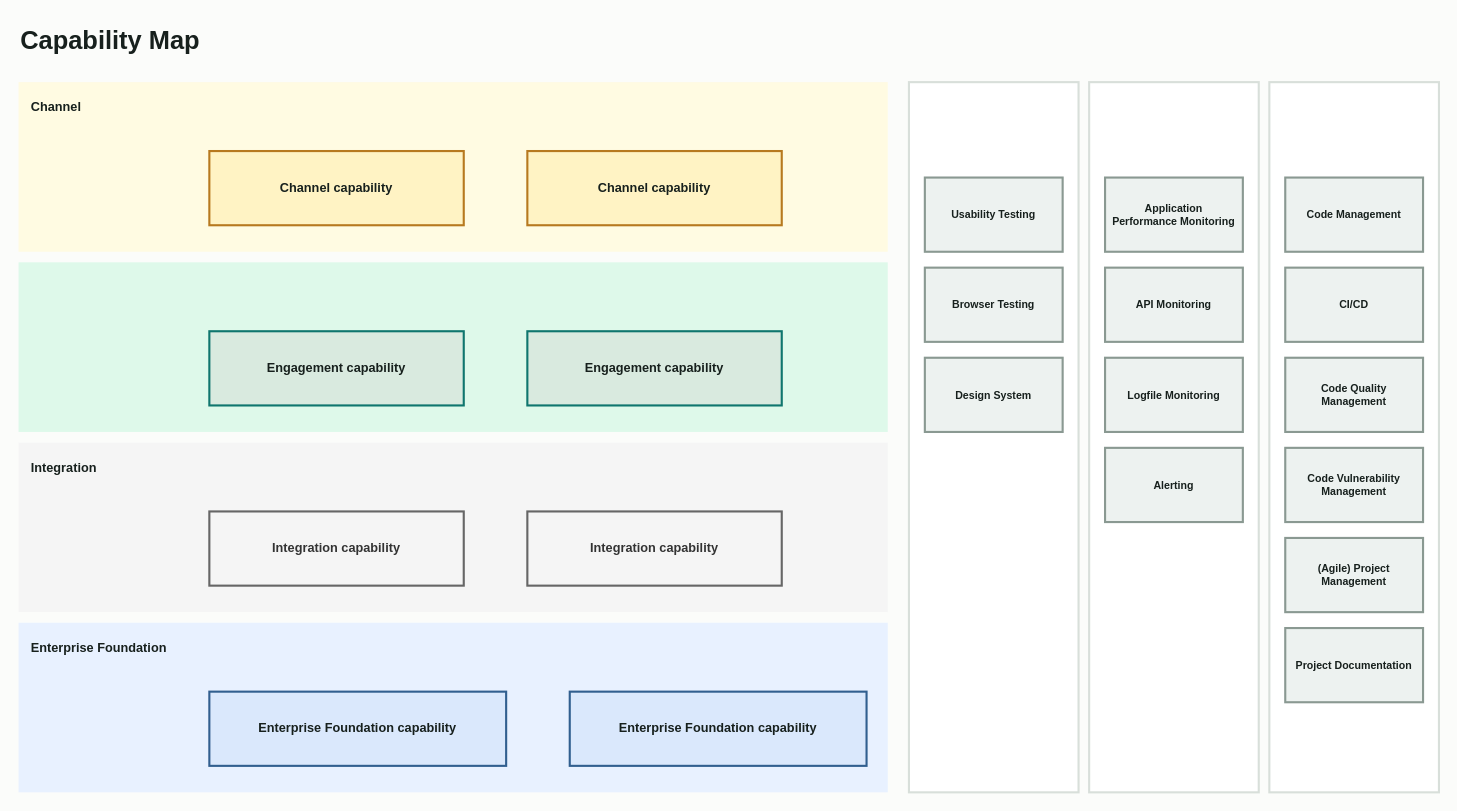
Some shapes in this 1457 by 811 pixel diagram are drawn without their labels. Here are the shapes that lost their labels. From the top down, the box of each, then its label:
(18, 262, 887, 431): Engagement Services
(907, 81, 1079, 793): UI Design and Testing
(1088, 81, 1259, 793): Observability (Logging, Monitoring & Alerting)
(1268, 81, 1439, 793): DevOps
